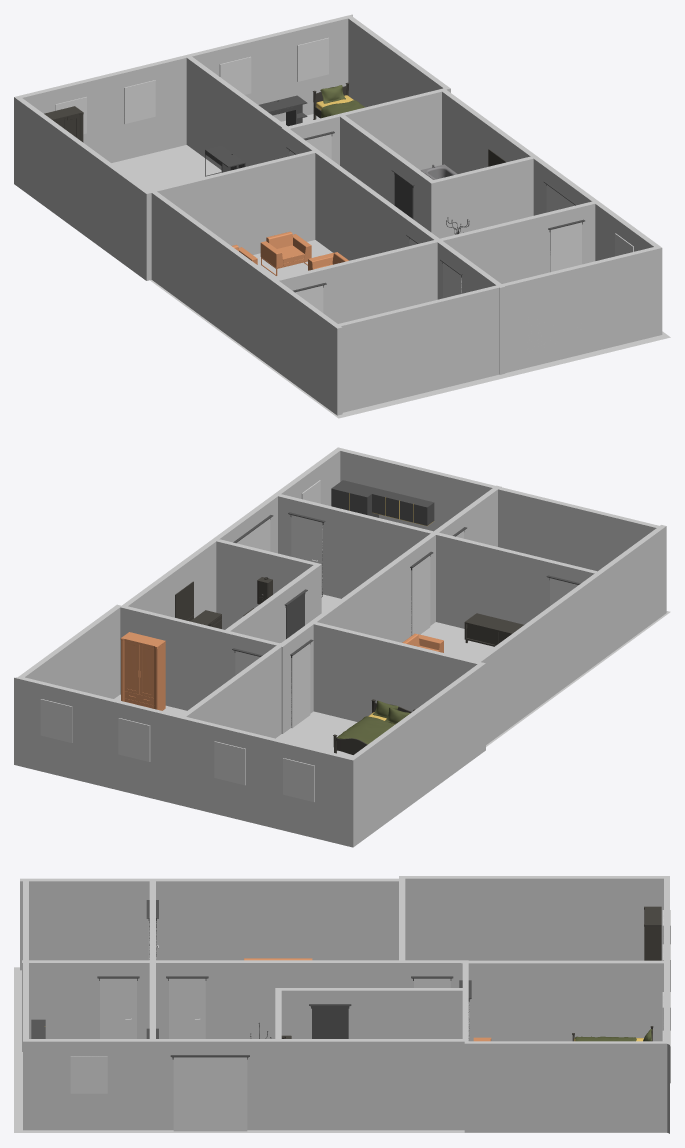
3 views of the same model, one above another, from view 1: azimuth 30°, elevation 25°; view 2: azimuth 150°, elevation 25°; view 3: azimuth 270°, elevation 25° (orthographic). The views are drawn at different scales.
Parts seen in each view (by area): view 1: Wall Mesh.004, Wall Mesh.009, Wall Mesh.020, Wall Mesh.010, Wall Mesh.019, Wall Mesh.008, Wall Mesh.012, Wall Mesh.005, Wall Mesh.023, Wall Mesh.015, Plane, Wall Mesh.006 (+13 smaller); view 2: Wall Mesh.020, Wall Mesh.009, Wall Mesh.010, Wall Mesh.004, Wall Mesh.019, Wall Mesh.008, Wall Mesh.012, Wall Mesh.006, Wall Mesh.005, Wall Mesh.021, Wall Mesh.023, Wall Mesh.015 (+17 smaller); view 3: Wall Mesh.005, Wall Mesh.009, Wall Mesh.019, Wall Mesh.021, Wall Mesh.012, Wall Mesh.023, Wall Mesh.014, Hole.015, Plane, Hole.007, Hole.011, Wall Mesh.010 (+10 smaller).
Boxes of the visible parts, x1,y1,x2,y2 form: Wall Mesh.004: (336, 247, 662, 412); Wall Mesh.009: (151, 191, 342, 415); Wall Mesh.020: (15, 14, 352, 162); Wall Mesh.010: (273, 201, 599, 323); Wall Mesh.019: (14, 97, 148, 280); Wall Mesh.008: (146, 150, 315, 280); Wall Mesh.012: (313, 149, 505, 374); Wall Mesh.005: (442, 88, 661, 260); Wall Mesh.023: (186, 56, 290, 169); Wall Mesh.015: (431, 156, 538, 238); Plane: (111, 114, 670, 418); Wall Mesh.006: (287, 88, 443, 170); Wall Mesh.020: (14, 677, 353, 847); Wall Mesh.009: (476, 525, 666, 744); Wall Mesh.010: (275, 493, 599, 628); Wall Mesh.004: (338, 447, 661, 571); Wall Mesh.019: (351, 663, 485, 846); Wall Mesh.008: (313, 622, 484, 721); Wall Mesh.012: (309, 485, 501, 642); Wall Mesh.006: (120, 606, 282, 733); Wall Mesh.005: (120, 447, 340, 618); Wall Mesh.021: (17, 604, 121, 698); Wall Mesh.023: (180, 643, 284, 738); Wall Mesh.015: (214, 538, 321, 629); Wall Mesh.005: (23, 1039, 468, 1130); Wall Mesh.009: (20, 878, 399, 970); Wall Mesh.019: (399, 876, 669, 960); Wall Mesh.021: (464, 1041, 667, 1132); Wall Mesh.012: (22, 960, 405, 1051); Wall Mesh.023: (461, 960, 665, 1041); Wall Mesh.014: (276, 988, 462, 1038); Hole.015: (173, 1057, 247, 1131); Plane: (14, 967, 666, 1132); Hole.007: (100, 978, 136, 1038); Hole.011: (169, 978, 205, 1038); Wall Mesh.010: (149, 880, 155, 1129).
Size of what is drawn, in the model's own units: 993 by 251 by 1633.
